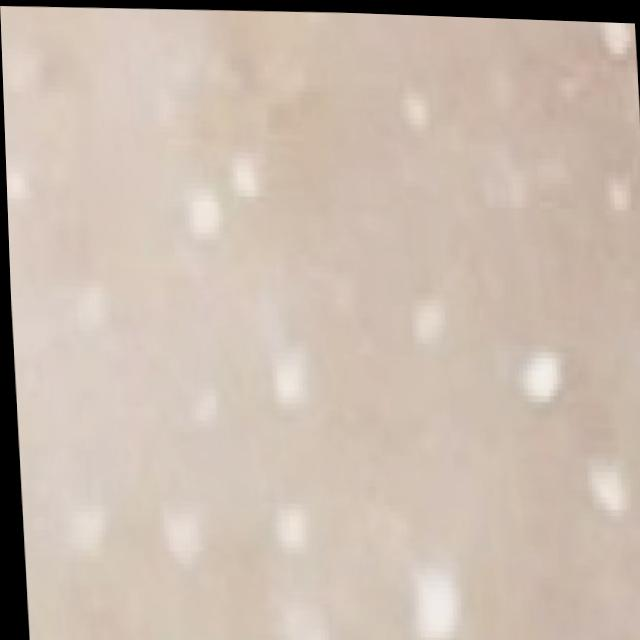whitehead: (4, 11, 640, 640)
